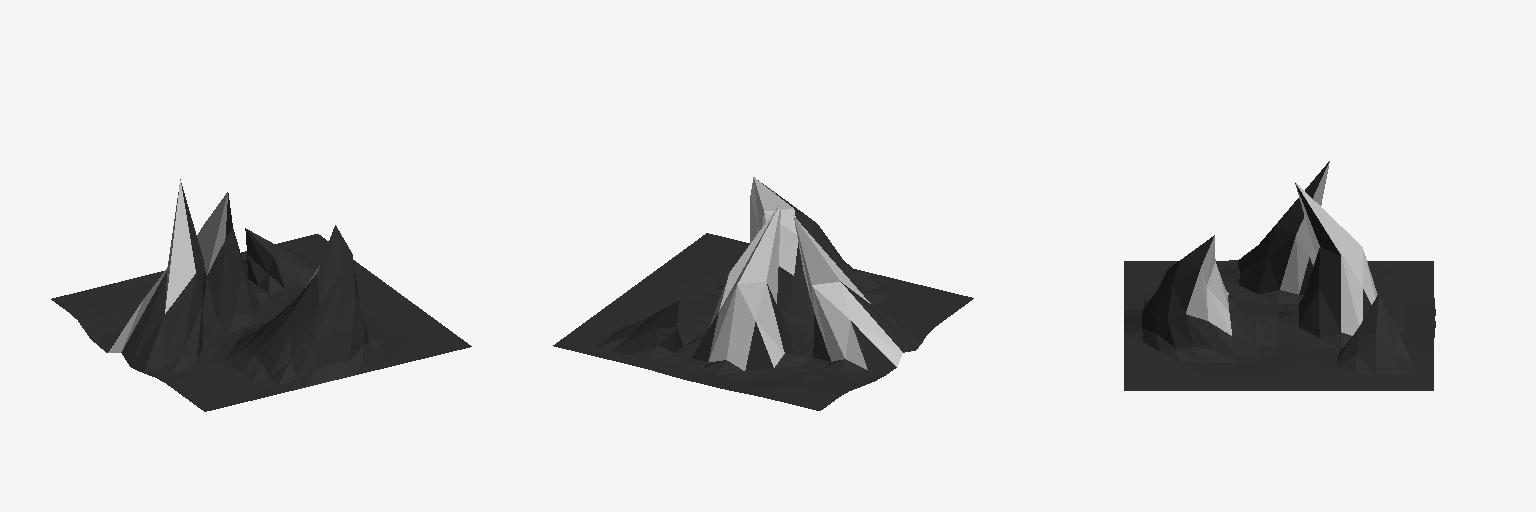
File: mountains1.obj
The picture shows the model from 3 angles: view 1: azimuth 30°, elevation 25°; view 2: azimuth 150°, elevation 25°; view 3: azimuth 270°, elevation 25°; orthographic projection.
Parts seen in each view (by area): view 1: Plane.001_Plane.002; view 2: Plane.001_Plane.002; view 3: Plane.001_Plane.002.
Part boxes in pixels (bbox=[...]): Plane.001_Plane.002: bbox=[51, 179, 471, 411]; Plane.001_Plane.002: bbox=[553, 177, 973, 410]; Plane.001_Plane.002: bbox=[1124, 161, 1435, 390].
Bounding box in the file's own units: 11.72 × 5.75 × 11.38.